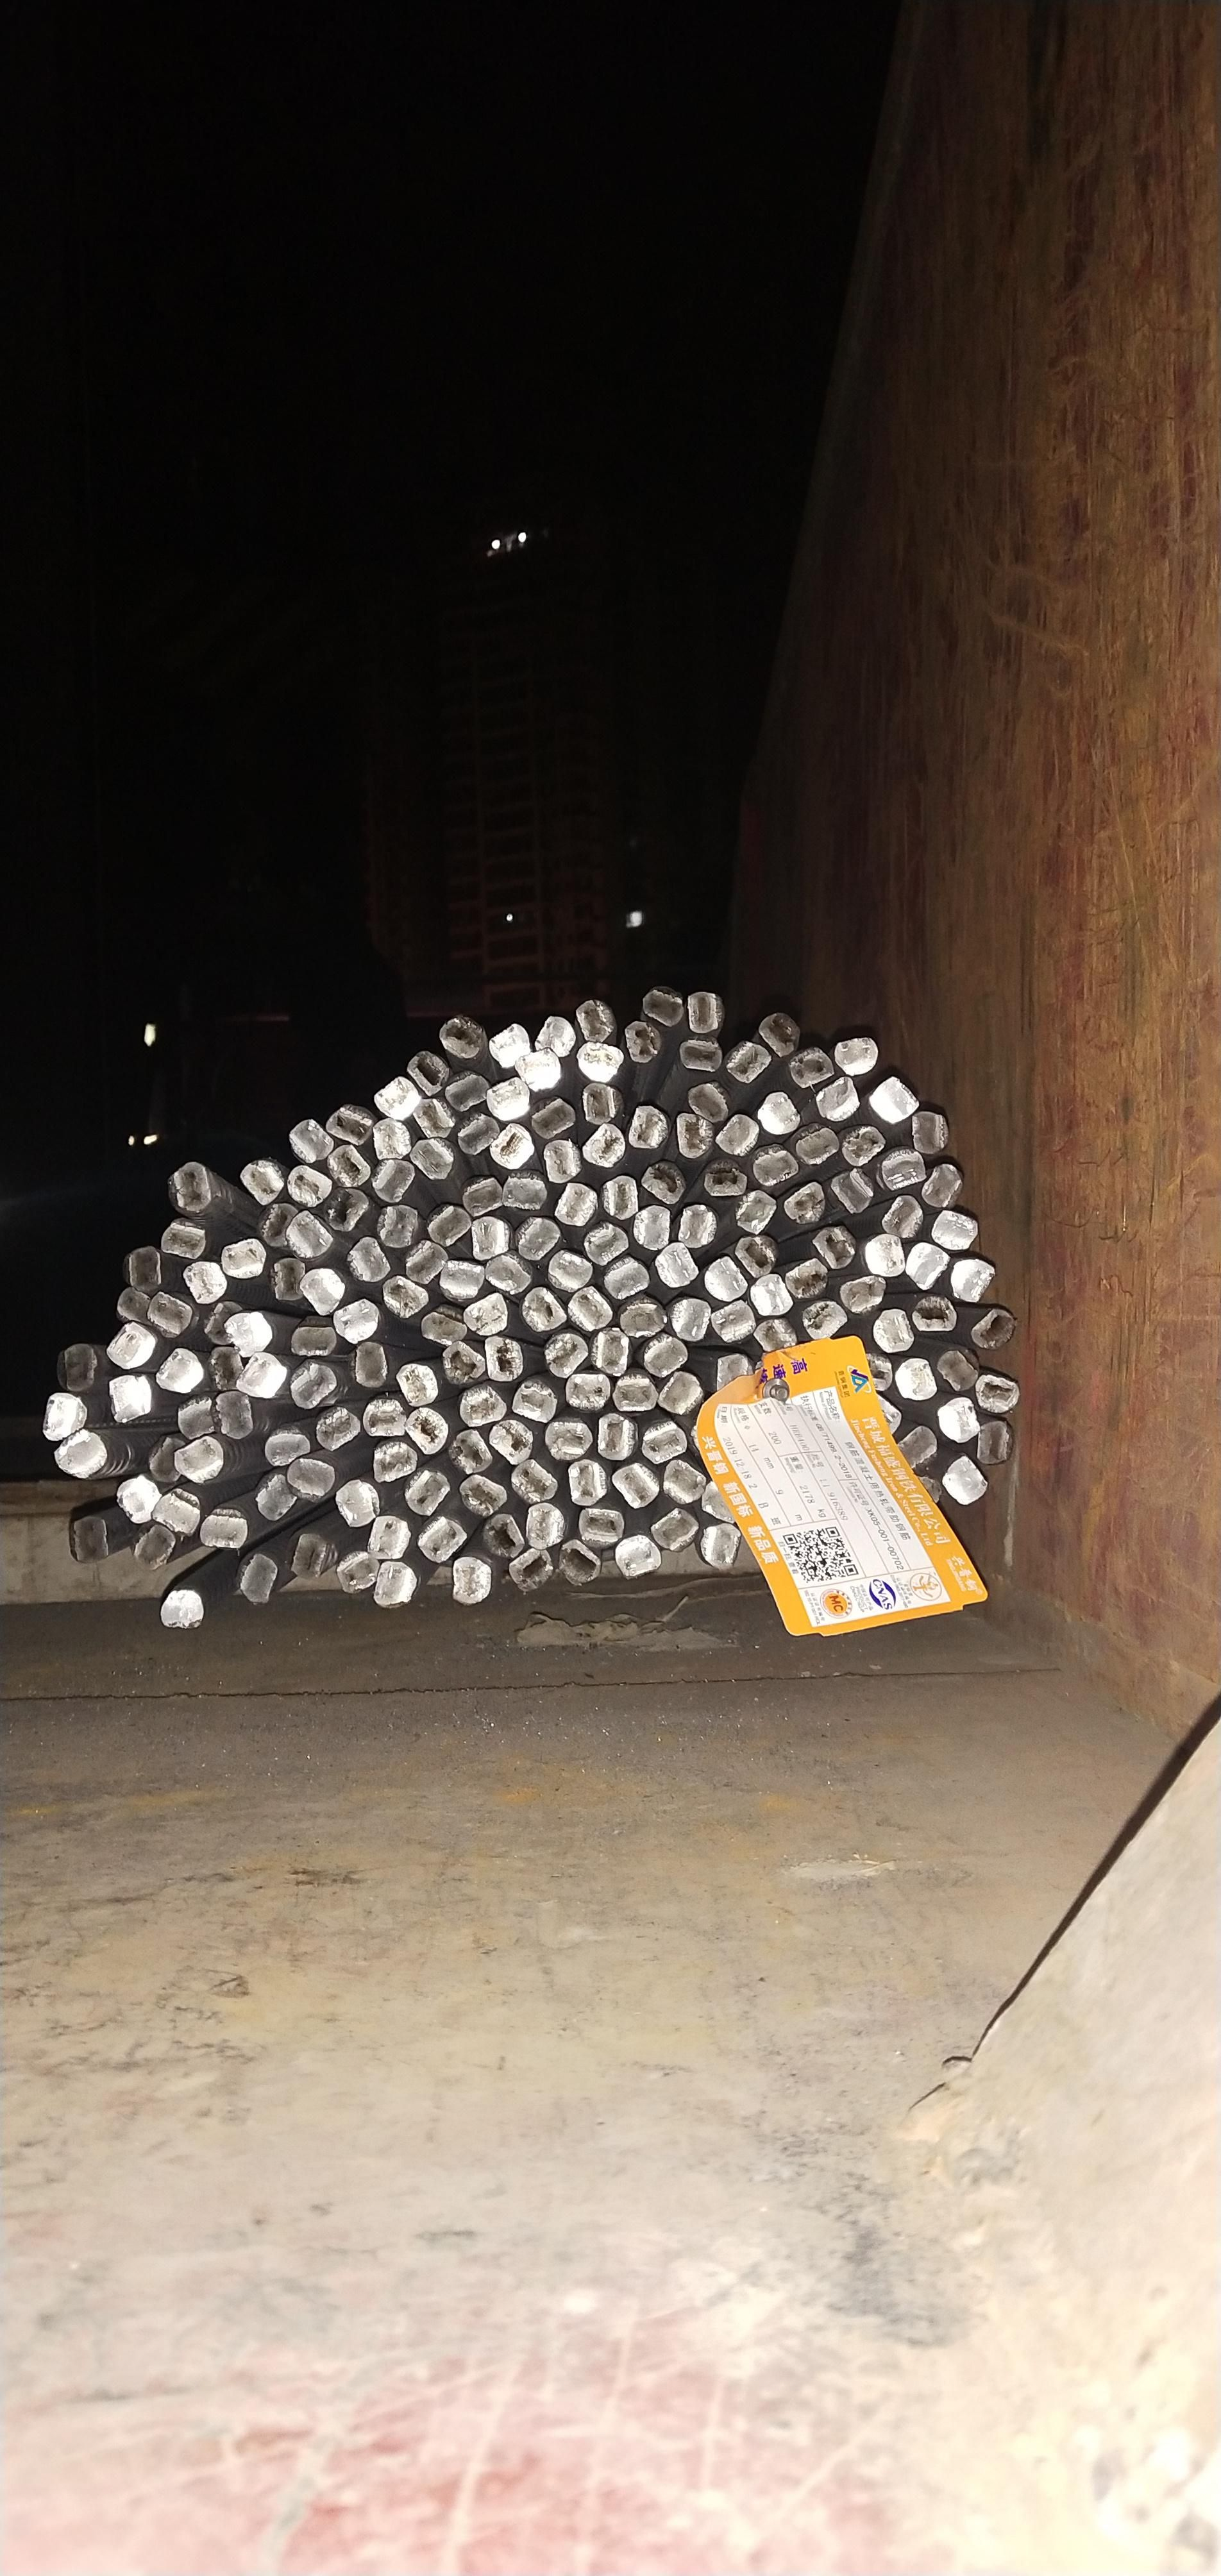rebar: (54, 1429, 110, 1481), (868, 1074, 922, 1126), (940, 1455, 992, 1507), (235, 1350, 287, 1401), (174, 1433, 225, 1485), (610, 1461, 661, 1511), (334, 1476, 383, 1529), (167, 1160, 213, 1214), (106, 1372, 153, 1425), (223, 1309, 274, 1358), (902, 1240, 952, 1292), (115, 1473, 162, 1525), (509, 1458, 561, 1505), (155, 1347, 203, 1396), (373, 1075, 423, 1123), (444, 1426, 493, 1475), (106, 1321, 156, 1369), (437, 1015, 489, 1063), (403, 1405, 449, 1457), (416, 1517, 468, 1563), (448, 1554, 494, 1606), (285, 1210, 335, 1257), (287, 1115, 335, 1163), (489, 1124, 537, 1171), (725, 1040, 774, 1087), (950, 1256, 997, 1304), (42, 1391, 87, 1441), (299, 1266, 346, 1316), (330, 1299, 381, 1346), (152, 1491, 203, 1538), (285, 1456, 337, 1502), (456, 1383, 507, 1428), (147, 1291, 194, 1339), (344, 1235, 391, 1284), (405, 1470, 451, 1516), (485, 1076, 533, 1123), (813, 1075, 861, 1123), (290, 1364, 339, 1410), (394, 1359, 441, 1409), (405, 1048, 451, 1097), (381, 1275, 431, 1321), (650, 1506, 700, 1552), (756, 1010, 802, 1059), (830, 1166, 875, 1216), (57, 1343, 101, 1393), (70, 1511, 112, 1566), (314, 1405, 360, 1452), (372, 1559, 418, 1607), (438, 1257, 487, 1302), (487, 1419, 535, 1465), (553, 1180, 599, 1226), (566, 1286, 614, 1332), (603, 1257, 652, 1303), (639, 1160, 687, 1206), (702, 1255, 749, 1301), (971, 1305, 1019, 1352), (285, 1163, 333, 1207), (458, 1473, 507, 1517), (481, 1512, 526, 1561), (662, 1456, 707, 1505), (639, 1419, 689, 1464), (522, 1285, 566, 1334), (546, 1248, 594, 1293), (937, 1394, 981, 1445), (323, 1105, 374, 1148), (929, 1209, 980, 1251), (198, 1512, 251, 1550), (131, 1523, 177, 1570), (463, 1291, 510, 1338), (441, 1341, 486, 1386), (516, 1216, 562, 1262), (658, 1370, 704, 1416), (750, 1273, 796, 1319), (893, 1423, 940, 1468), (181, 1261, 228, 1306), (323, 1188, 370, 1233), (253, 1475, 298, 1522), (365, 1514, 412, 1559), (455, 1112, 503, 1157), (507, 1548, 555, 1593), (615, 1532, 663, 1577), (515, 1047, 562, 1093), (575, 1038, 623, 1083), (579, 1123, 627, 1169), (655, 1241, 699, 1289), (895, 1355, 939, 1403), (524, 1501, 566, 1550), (543, 1420, 593, 1462), (698, 1522, 742, 1573), (484, 1253, 532, 1296), (214, 1389, 255, 1441), (289, 1530, 330, 1582), (158, 1221, 210, 1260), (159, 1586, 205, 1632), (240, 1160, 284, 1206), (337, 1549, 381, 1595), (369, 1157, 415, 1203), (543, 1332, 589, 1378), (709, 1299, 757, 1344), (757, 1090, 802, 1135), (833, 1032, 878, 1077), (813, 1223, 857, 1270), (258, 1201, 301, 1249), (426, 1204, 473, 1247), (489, 1022, 530, 1070), (583, 1223, 630, 1267), (627, 1102, 669, 1150), (919, 1162, 962, 1208), (975, 1373, 1022, 1416), (369, 1441, 419, 1482), (442, 1072, 491, 1112), (483, 1334, 525, 1384), (577, 1506, 626, 1547), (596, 1412, 638, 1462), (238, 1553, 278, 1604), (567, 1457, 606, 1509), (715, 1112, 760, 1157), (881, 1194, 925, 1238), (219, 1237, 265, 1279), (327, 1144, 373, 1189), (669, 1295, 711, 1341), (677, 1203, 720, 1248), (736, 1189, 779, 1235), (734, 1237, 779, 1280), (908, 1110, 951, 1156), (839, 1123, 886, 1167), (871, 1308, 914, 1354), (938, 1347, 981, 1394), (530, 1097, 577, 1138), (610, 1373, 659, 1414), (643, 1336, 690, 1377), (632, 1203, 673, 1251), (802, 1300, 849, 1340), (840, 1274, 888, 1315), (500, 1173, 550, 1212), (673, 1111, 712, 1160), (369, 1117, 413, 1160), (412, 1137, 455, 1182), (404, 1240, 447, 1285), (510, 1382, 556, 1425), (789, 1046, 834, 1088), (203, 1300, 244, 1345), (175, 1396, 217, 1443), (412, 1096, 454, 1141), (564, 1372, 612, 1411), (351, 1340, 390, 1389), (684, 987, 722, 1035), (618, 1301, 668, 1338), (687, 1081, 730, 1124), (785, 1257, 828, 1300), (782, 1181, 825, 1224), (362, 1398, 407, 1439), (378, 1204, 419, 1249), (533, 1015, 577, 1057), (864, 1233, 906, 1276), (287, 1324, 338, 1359), (580, 1081, 620, 1126), (641, 987, 686, 1028), (126, 1246, 165, 1293), (419, 1310, 467, 1348), (542, 1137, 580, 1185), (593, 1329, 630, 1377), (676, 1036, 723, 1074), (752, 1149, 798, 1185), (795, 1126, 841, 1165), (262, 1432, 313, 1466), (602, 1174, 639, 1220), (148, 1436, 184, 1484), (471, 1215, 507, 1262), (877, 1152, 926, 1189), (701, 1163, 750, 1197), (463, 1175, 505, 1214), (575, 998, 614, 1044), (622, 1019, 659, 1064), (976, 1419, 1013, 1466), (209, 1344, 244, 1392), (560, 1544, 600, 1586), (702, 1482, 741, 1523), (712, 1352, 752, 1392), (911, 1294, 956, 1332), (271, 1255, 307, 1300), (113, 1285, 154, 1322), (752, 1318, 798, 1352), (863, 1352, 894, 1394)
